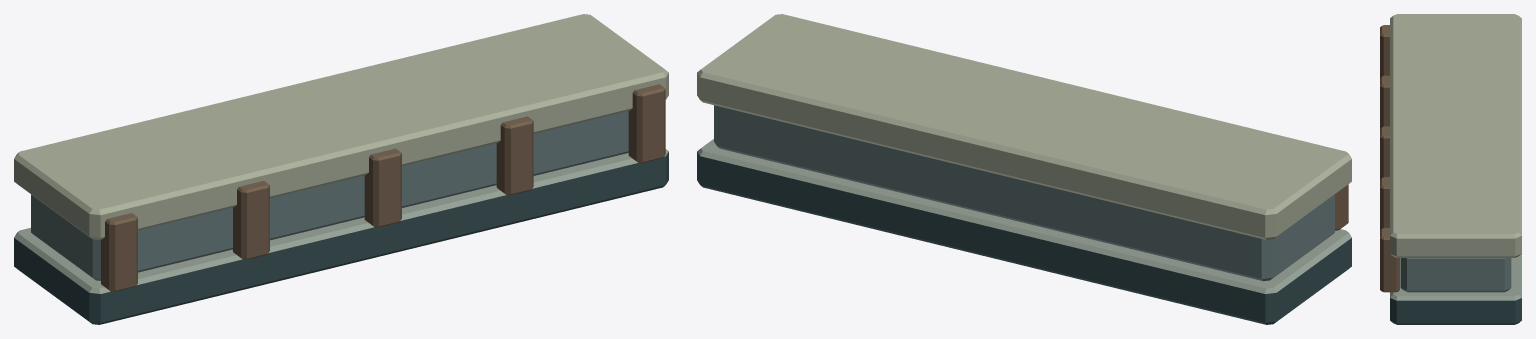
Rendered from wall-low.glb.
3 views of the same model, side by side, from view 1: azimuth 30°, elevation 25°; view 2: azimuth 150°, elevation 25°; view 3: azimuth 270°, elevation 25° (orthographic). The views are drawn at different scales.
Parts seen in each view (by area): view 1: wall-low__body; view 2: wall-low__body; view 3: wall-low__body.
Part boxes in pixels (x1,y1,x2,y2): wall-low__body: (14, 14, 668, 324); wall-low__body: (697, 14, 1351, 324); wall-low__body: (1380, 14, 1521, 324).
Size of the model in its own units: 2 by 0.38 by 0.5375.
